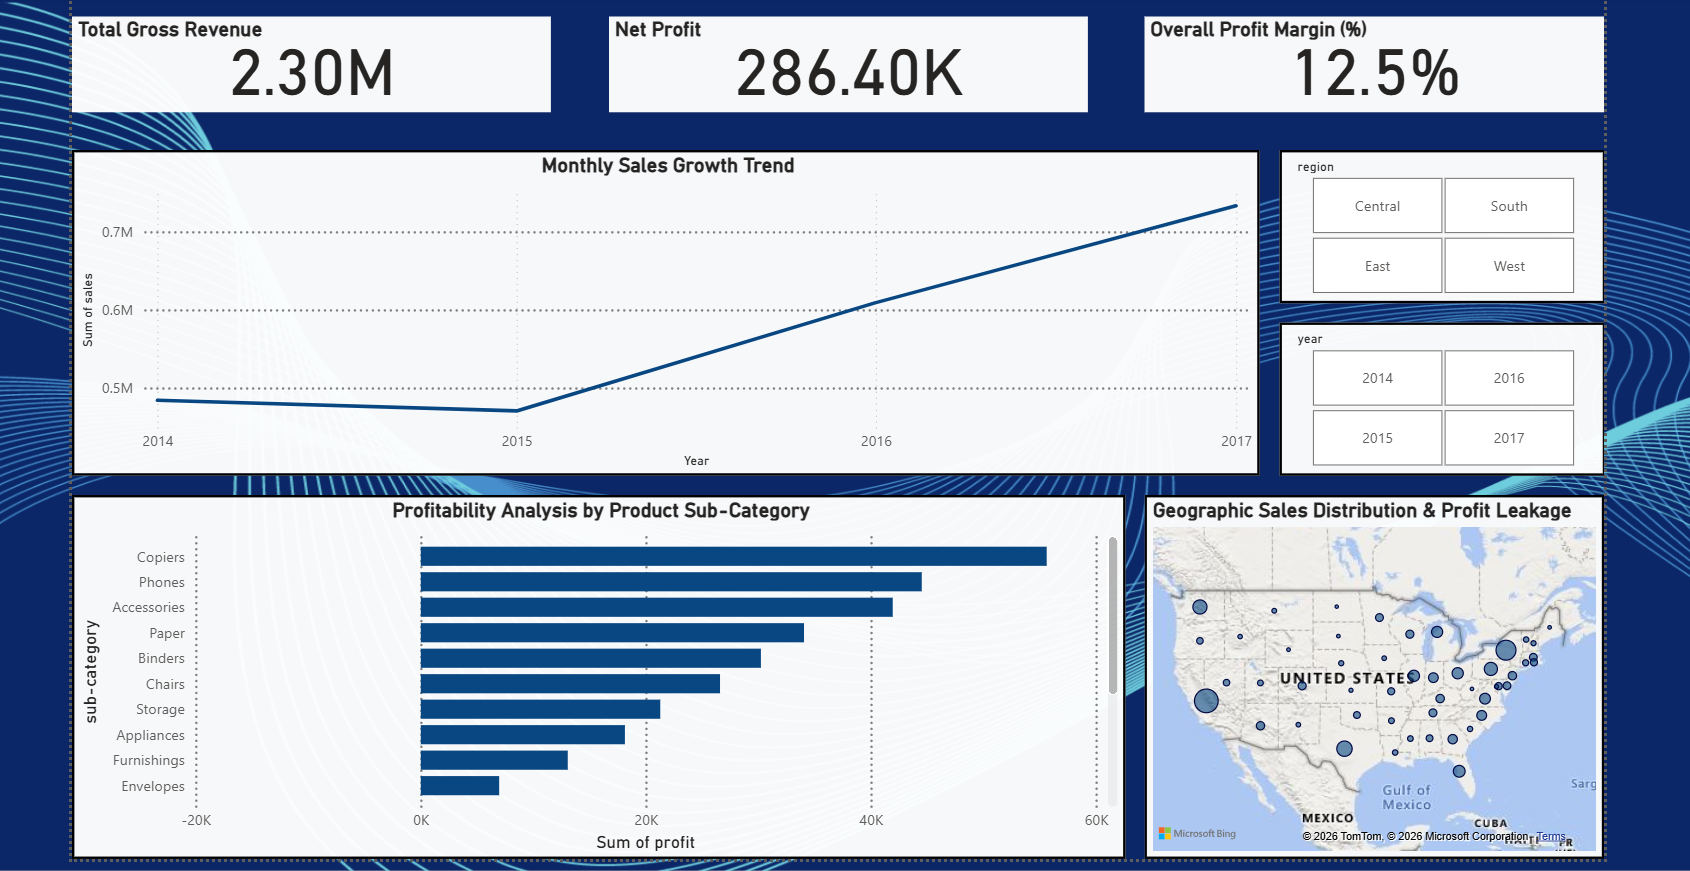

The page's visual inventory and layout, read from the dashboard file:
{"tool":"powerbi","page":{"name":"Executive Sales & Profitability Overview (2014-2017)","canvas":[1280,720],"ordinal":0},"visuals":[{"type":"lineChart","title":"Monthly Sales Growth Trend","fields":{"Category":["clean_superstore.order_date.Variation.Date Hierarchy.Year","clean_superstore.order_date.Variation.Date Hierarchy.Quarter","clean_superstore.order_date.Variation.Date Hierarchy.Month","clean_superstore.order_date.Variation.Date Hierarchy.Day"],"Y":["Sum(clean_superstore.sales)"]},"box":[0,128,992,272],"z":1000},{"type":"clusteredBarChart","title":"Profitability Analysis by Product Sub-Category","fields":{"Category":["clean_superstore.sub-category"],"Y":["Sum(clean_superstore.profit)"]},"box":[0,416,880,304],"z":2000},{"type":"map","title":"Geographic Sales Distribution & Profit Leakage","fields":{"Category":["clean_superstore.state"],"Size":["Sum(clean_superstore.sales)"]},"box":[896,416,384,304],"z":3000},{"type":"slicer","fields":{"Values":["clean_superstore.region"]},"box":[1008,128,272,128],"z":4000},{"type":"slicer","fields":{"Values":["clean_superstore.year"]},"box":[1008,272,272,128],"z":5000},{"type":"card","title":"Total Gross Revenue","fields":{"Values":["Sum(clean_superstore.sales)"]},"box":[0,16,400,80],"z":6000},{"type":"card","title":"Net Profit","fields":{"Values":["Sum(clean_superstore.profit)"]},"box":[448,16,400,80],"z":7000},{"type":"card","title":"Overall Profit Margin (%)","fields":{"Values":["clean_superstore.Profit Margin"]},"box":[896,16,384,80],"z":7001}]}

Visuals, with their boxes in screenshot pixels (x1, y1, x2, y2):
"Monthly Sales Growth Trend" lineChart: {"x1": 70, "y1": 148, "x2": 1254, "y2": 473}
"Profitability Analysis by Product Sub-Category" clusteredBarChart: {"x1": 70, "y1": 492, "x2": 1121, "y2": 855}
"Geographic Sales Distribution & Profit Leakage" map: {"x1": 1140, "y1": 492, "x2": 1598, "y2": 855}
slicer - clean_superstore.region: {"x1": 1274, "y1": 148, "x2": 1598, "y2": 301}
slicer - clean_superstore.year: {"x1": 1274, "y1": 320, "x2": 1598, "y2": 473}
"Total Gross Revenue" card: {"x1": 70, "y1": 15, "x2": 548, "y2": 110}
"Net Profit" card: {"x1": 605, "y1": 15, "x2": 1083, "y2": 110}
"Overall Profit Margin (%)" card: {"x1": 1140, "y1": 15, "x2": 1598, "y2": 110}
